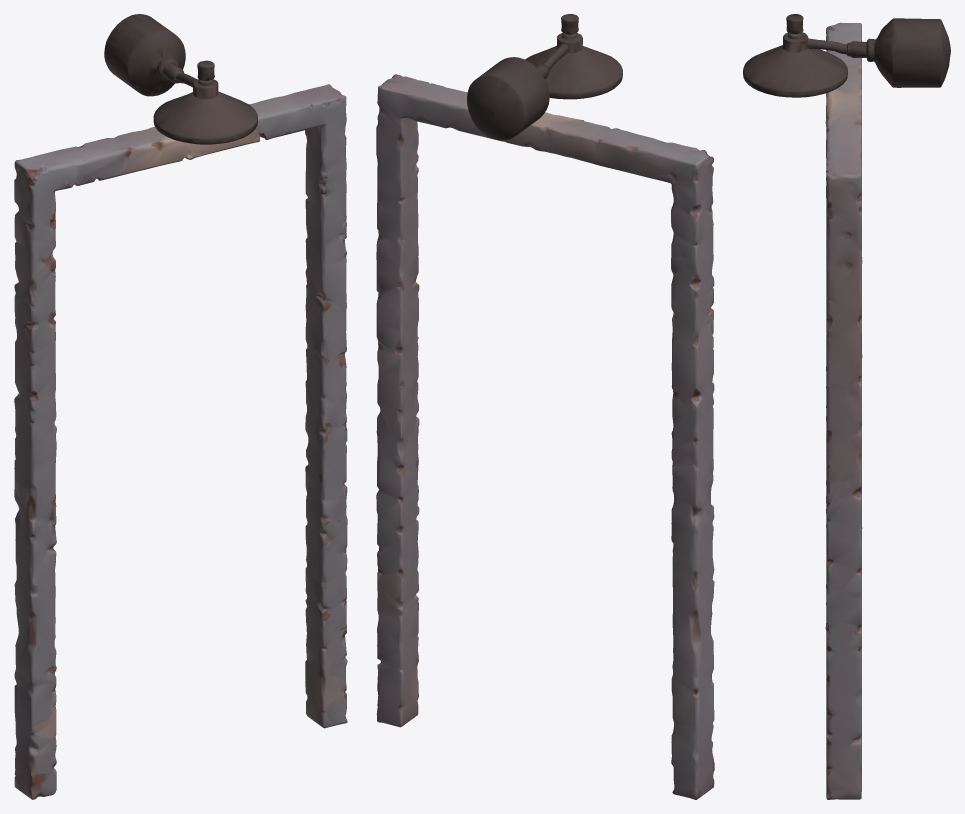
Rendered from decor_door_frame_rusty_idle.glb.
3 views of the same model, side by side, from view 1: azimuth 30°, elevation 25°; view 2: azimuth 150°, elevation 25°; view 3: azimuth 270°, elevation 25° (orthographic).
Visible parts, largest first — view 1: tripo_node_2c2aa47d-7021-455f-9304-f0b9b88abb56; view 2: tripo_node_2c2aa47d-7021-455f-9304-f0b9b88abb56; view 3: tripo_node_2c2aa47d-7021-455f-9304-f0b9b88abb56.
Part boxes in pixels (left/top/right/bottom): tripo_node_2c2aa47d-7021-455f-9304-f0b9b88abb56: left=14, top=14, right=347, bottom=799; tripo_node_2c2aa47d-7021-455f-9304-f0b9b88abb56: left=376, top=14, right=714, bottom=799; tripo_node_2c2aa47d-7021-455f-9304-f0b9b88abb56: left=743, top=14, right=950, bottom=799.
Bounding box in the file's own units: 0.9812 × 2.1 × 0.5598.
1 material, 1 textured.
